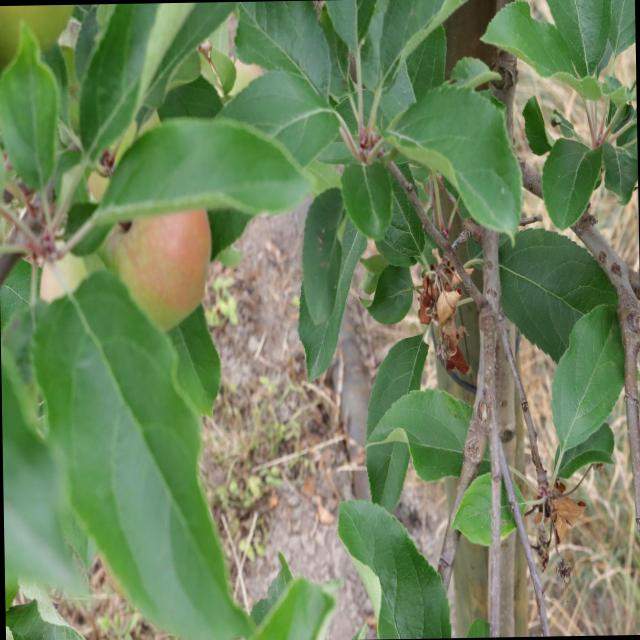-FireBlight-: (414, 266, 473, 380)
